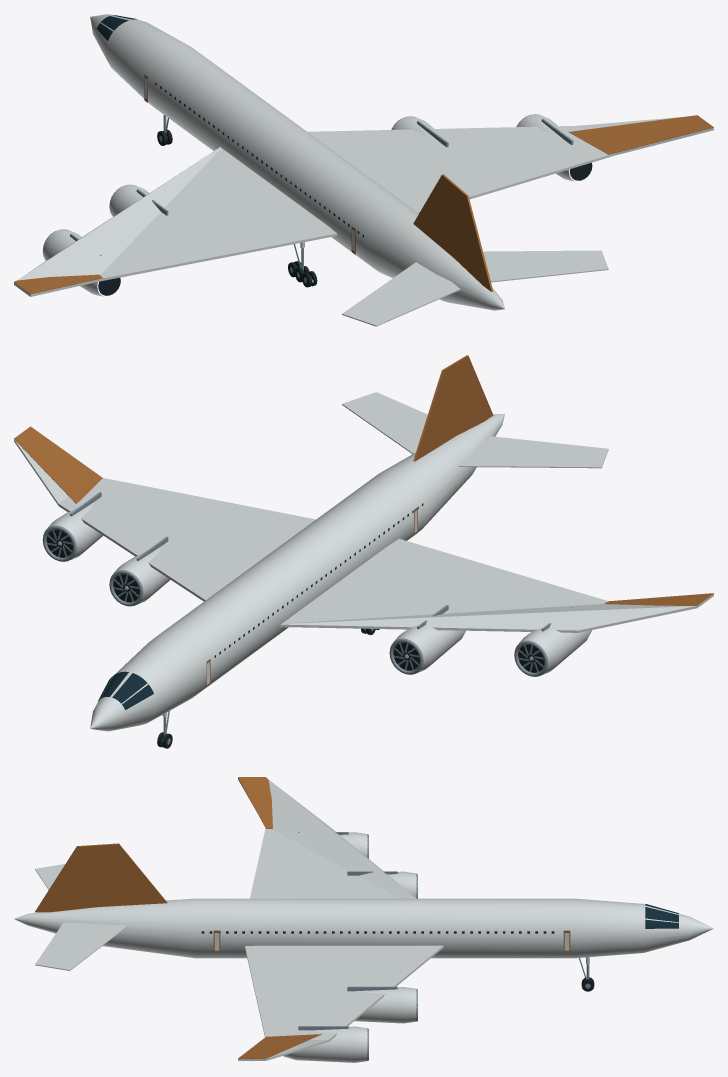
The picture shows the model from 3 angles, top to bottom: view 1: azimuth 30°, elevation 25°; view 2: azimuth 150°, elevation 25°; view 3: azimuth 270°, elevation 25°; orthographic projection. The views are drawn at different scales.
Visible parts, largest first — view 1: 天穹 L-440 original airliner, landing-gear; view 2: 天穹 L-440 original airliner; view 3: 天穹 L-440 original airliner.
Boxes of the visible parts, x1,y1,x2,y2 form: 天穹 L-440 original airliner: (14,14,713,326); landing-gear: (157,115,317,287); 天穹 L-440 original airliner: (14,355,713,731); 天穹 L-440 original airliner: (14,777,713,1062).
Size of the model in its own units: 68.5 by 16.61 by 72.
